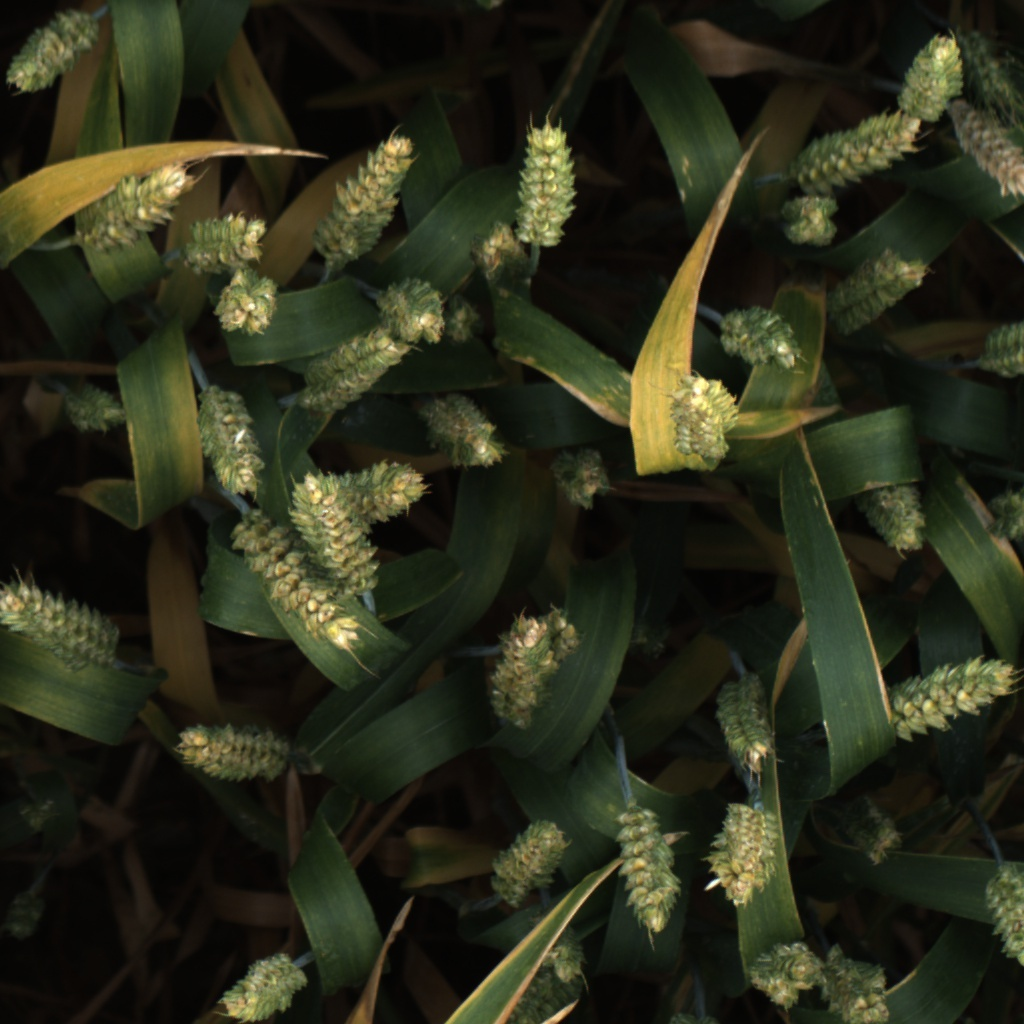Rres_1: (220, 505, 362, 654), (306, 132, 416, 274), (63, 152, 206, 260), (878, 654, 1017, 746), (781, 110, 924, 194), (0, 574, 121, 671), (288, 470, 379, 588), (301, 319, 415, 413), (614, 796, 687, 934), (828, 243, 930, 340), (509, 119, 580, 252), (704, 799, 785, 914), (190, 375, 267, 492), (490, 609, 563, 732), (944, 92, 1024, 199), (3, 3, 97, 94), (665, 366, 745, 468), (219, 942, 315, 1024), (486, 816, 572, 907), (175, 718, 285, 788), (806, 942, 895, 1024), (716, 298, 804, 375), (714, 669, 779, 773), (422, 392, 505, 472), (897, 27, 969, 119), (204, 265, 286, 345), (858, 476, 937, 558), (744, 934, 826, 1011), (181, 210, 268, 279), (357, 452, 430, 529), (954, 27, 1016, 115), (980, 864, 1024, 985), (497, 966, 588, 1024), (377, 277, 448, 350), (548, 443, 615, 511), (835, 799, 904, 865), (430, 290, 497, 356), (777, 187, 846, 249), (470, 219, 531, 286), (976, 311, 1024, 390), (64, 379, 128, 436), (538, 921, 590, 986), (533, 608, 585, 668), (841, 953, 890, 1010), (0, 889, 49, 945), (988, 482, 1024, 546)
